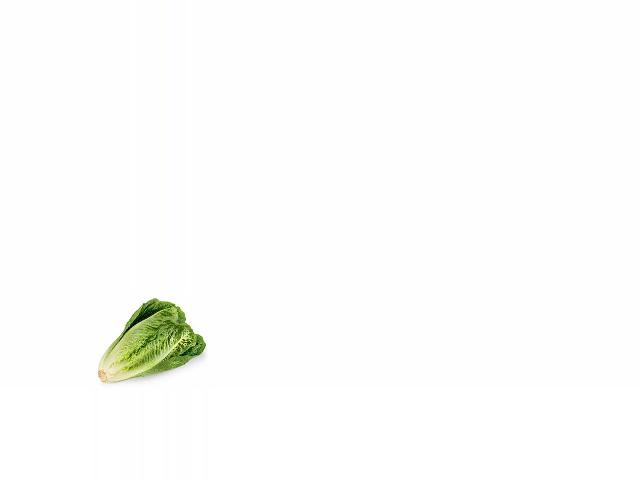lettuce: (90, 299, 205, 385)
